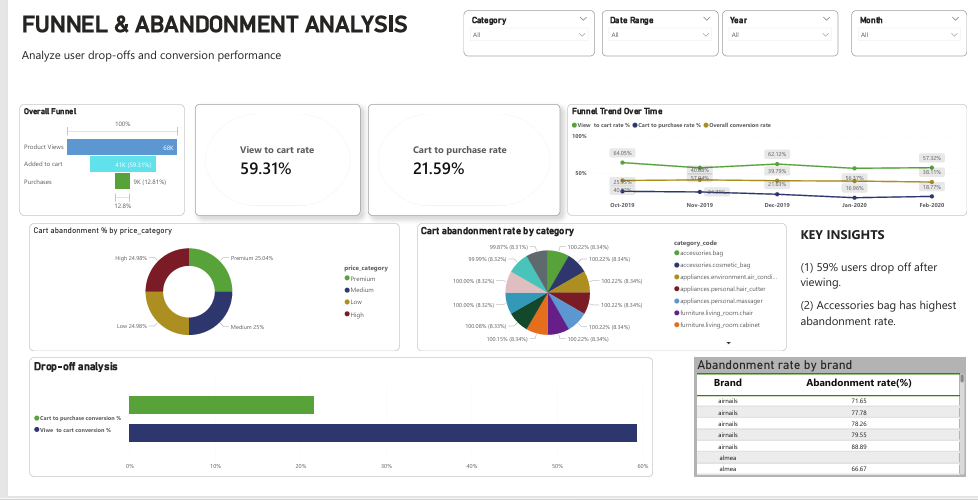

The page's visual inventory and layout, read from the dashboard file:
{"tool":"powerbi","page":{"name":"Funnel and abandonemnt analysis","canvas":[2000,1000],"ordinal":2},"visuals":[{"type":"funnel","title":"Overall Funnel","fields":{"Y":["Sum(monthly_kpi_summary.is_view)","Sum(monthly_kpi_summary.is_cart)","Sum(monthly_kpi_summary.is_purchase)"]},"box":[0,197.6,349.3,236.4],"z":0},{"type":"cardVisual","title":"TOTAL VIEWS","fields":{"Data":["fact_user_events.Viwe  to cart conversion %"]},"box":[370.5,197.6,349.3,236.4],"z":1000},{"type":"cardVisual","title":"TOTAL VIEWS","fields":{"Data":["fact_user_events.Cart to purchase conversion %"]},"box":[735.7,197.6,405.8,236.4],"z":2000},{"type":"lineChart","title":"Funnel Trend Over Time","fields":{"Category":["fact_user_events.year_month"],"Y":["fact_user_events.Viwe  to cart conversion %","fact_user_events.Cart to purchase conversion %","CountNonNull(product_conversion_analysis.conversion_rate)"]},"box":[1157.4,197.6,843.3,236.4],"z":3000},{"type":"clusteredBarChart","title":"Drop-off analysis","fields":{"Y":["fact_user_events.Cart to purchase conversion %","fact_user_events.Viwe  to cart conversion %"]},"box":[21.4,733.3,1316.5,253],"z":4000},{"type":"donutChart","fields":{"Y":["fact_user_events.Cart abandonment %"],"Category":["fact_user_events.price_category"]},"box":[21.2,449.9,781.6,269.9],"z":5000},{"type":"textbox","title":"FUNNEL & ABANDONMENT ANALYSIS","box":[0,0,1141.5,171.1],"z":6000},{"type":"slicer","fields":{"Values":["fact_user_events.event_time"]},"box":[1230.1,0,245.6,96.6],"z":7000},{"type":"slicer","fields":{"Values":["fact_user_events.Year"]},"box":[1483.8,0,245.2,97],"z":8000},{"type":"slicer","fields":{"Values":["fact_user_events.month_name"]},"box":[1757.2,0,243.5,97],"z":9000},{"type":"textbox","box":[1644.3,449.9,356.4,269.9],"z":10000},{"type":"pieChart","title":"Cart abandonment rate by category","fields":{"Category":["fact_user_events.category_code"],"Y":["fact_user_events.Cart abandonment %"]},"box":[839.8,449.9,779.8,269.9],"z":11000},{"type":"tableEx","title":"Abandonment rate by brand","fields":{"Values":["fact_user_events.brand","category_performance_summary.abandonment_rate"]},"box":[1425.8,733.3,574.6,253],"z":12000},{"type":"slicer","fields":{"Values":["fact_user_events.category_code"]},"box":[938.3,0,277.1,96.6],"z":13000}]}

Visuals, with their boxes in screenshot pixels (x1, y1, x2, y2), scaled from the page's 2000x1000 canvas onto the 978x500 screenshot:
"Overall Funnel" funnel: x1=0, y1=99, x2=171, y2=217
"TOTAL VIEWS" cardVisual: x1=181, y1=99, x2=352, y2=217
"TOTAL VIEWS" cardVisual: x1=360, y1=99, x2=558, y2=217
"Funnel Trend Over Time" lineChart: x1=566, y1=99, x2=977, y2=217
"Drop-off analysis" clusteredBarChart: x1=10, y1=367, x2=654, y2=493
donutChart - fact_user_events.Cart abandonment % x fact_user_events.price_category: x1=10, y1=225, x2=393, y2=360
"FUNNEL & ABANDONMENT ANALYSIS" textbox: x1=0, y1=0, x2=558, y2=86
slicer - fact_user_events.event_time: x1=602, y1=0, x2=722, y2=48
slicer - fact_user_events.Year: x1=726, y1=0, x2=845, y2=48
slicer - fact_user_events.month_name: x1=859, y1=0, x2=977, y2=48
textbox: x1=804, y1=225, x2=977, y2=360
"Cart abandonment rate by category" pieChart: x1=411, y1=225, x2=792, y2=360
"Abandonment rate by brand" tableEx: x1=697, y1=367, x2=977, y2=493
slicer - fact_user_events.category_code: x1=459, y1=0, x2=594, y2=48
